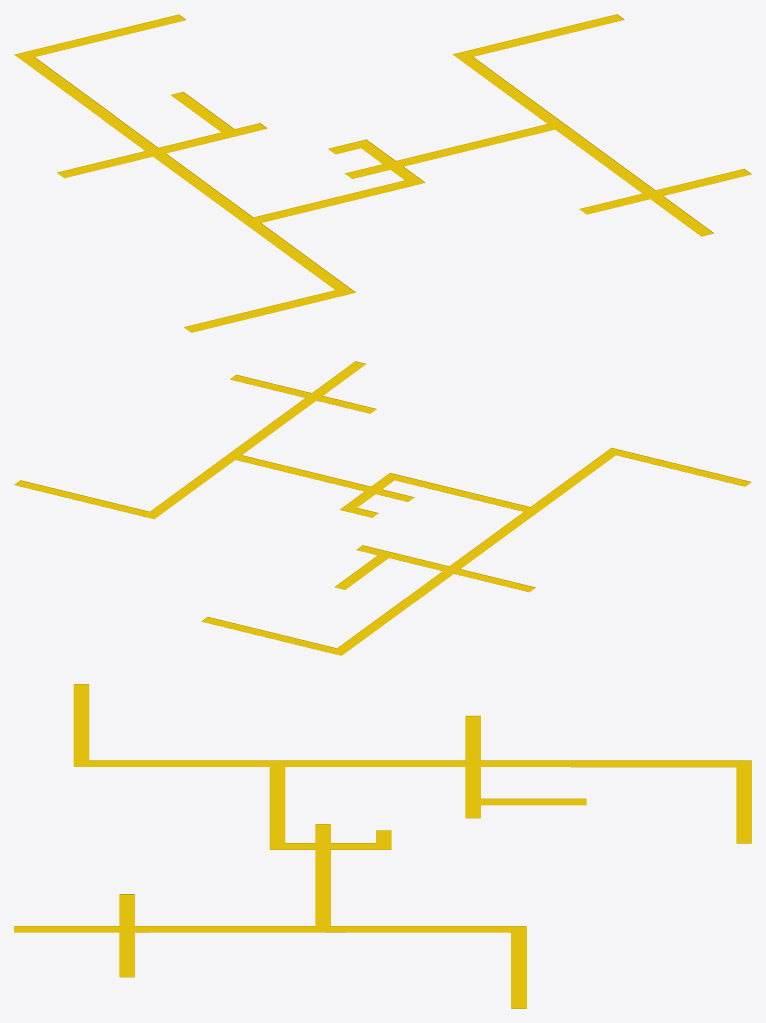
The model's file is Roads.fbx.
3 renders of one model, top to bottom at view 1: azimuth 30°, elevation 25°; view 2: azimuth 150°, elevation 25°; view 3: azimuth 270°, elevation 25°, orthographic. The views are drawn at different scales.
Parts seen in each view (by area): view 1: no part large enough to name; view 2: no part large enough to name; view 3: Road_Normal_Longa__20_, Road_Normal_Longa__21_, Road_Normal_Longa__24_, Road_Normal_Longa__11_, Road_Normal_Longa__18_, Road_Normal_Longa__10_, Road_Normal_Longa__19_.
Boxes of the visible parts, x1=… form: Road_Normal_Longa__20_: x1=571, y1=760, x2=646, y2=767; Road_Normal_Longa__21_: x1=646, y1=760, x2=721, y2=767; Road_Normal_Longa__24_: x1=496, y1=798, x2=570, y2=805; Road_Normal_Longa__11_: x1=269, y1=773, x2=285, y2=805; Road_Normal_Longa__18_: x1=73, y1=722, x2=89, y2=754; Road_Normal_Longa__10_: x1=269, y1=805, x2=285, y2=836; Road_Normal_Longa__19_: x1=73, y1=691, x2=89, y2=722.
Bounding box in the file's own units: 30747 × 15.63 × 29533.
